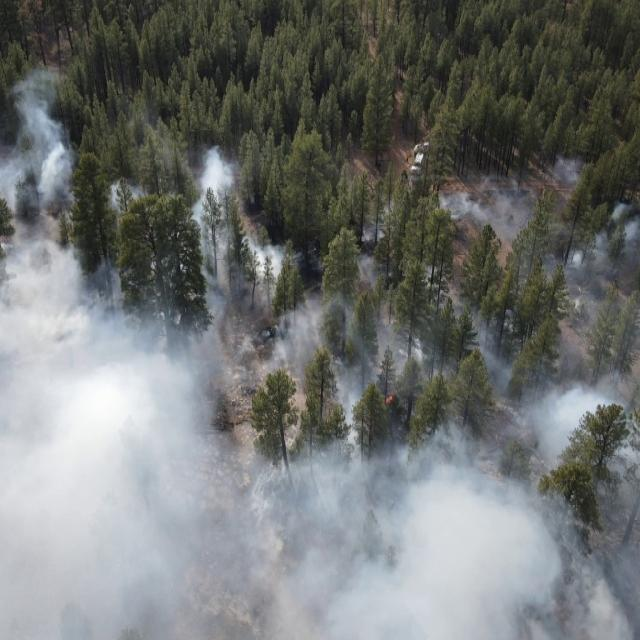fire: (379, 387, 399, 411)
smoke: (1, 150, 640, 640), (7, 61, 78, 150), (123, 112, 228, 150)
